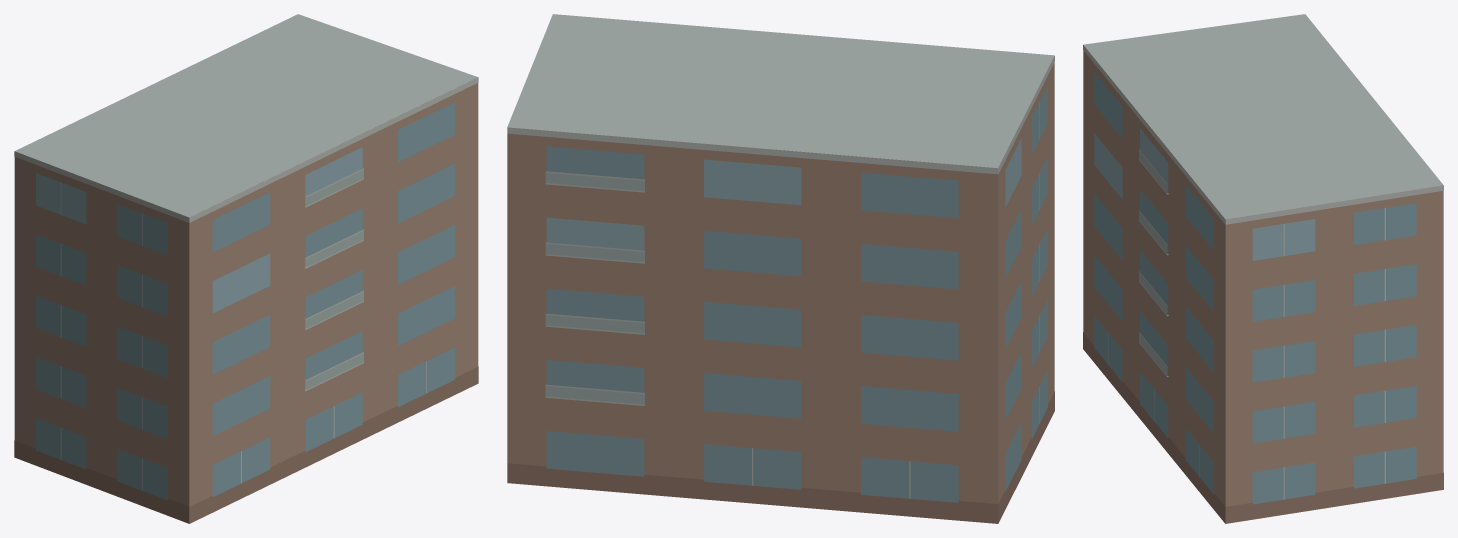
Rendered from survey-upis-32878889.glb.
The picture shows the model from 3 angles, left to right: view 1: azimuth 30°, elevation 25°; view 2: azimuth 150°, elevation 25°; view 3: azimuth 270°, elevation 25°; orthographic projection. The views are drawn at different scales.
Visible parts, largest first — view 1: survey-upis-32878889.tmp; view 2: survey-upis-32878889.tmp; view 3: survey-upis-32878889.tmp.
Boxes of the visible parts, x1,y1,x2,y2 form: survey-upis-32878889.tmp: (14, 14, 478, 523); survey-upis-32878889.tmp: (507, 14, 1054, 523); survey-upis-32878889.tmp: (1083, 14, 1443, 523).
Bounding box in the file's own units: 20.13 × 13.9 × 14.94.
